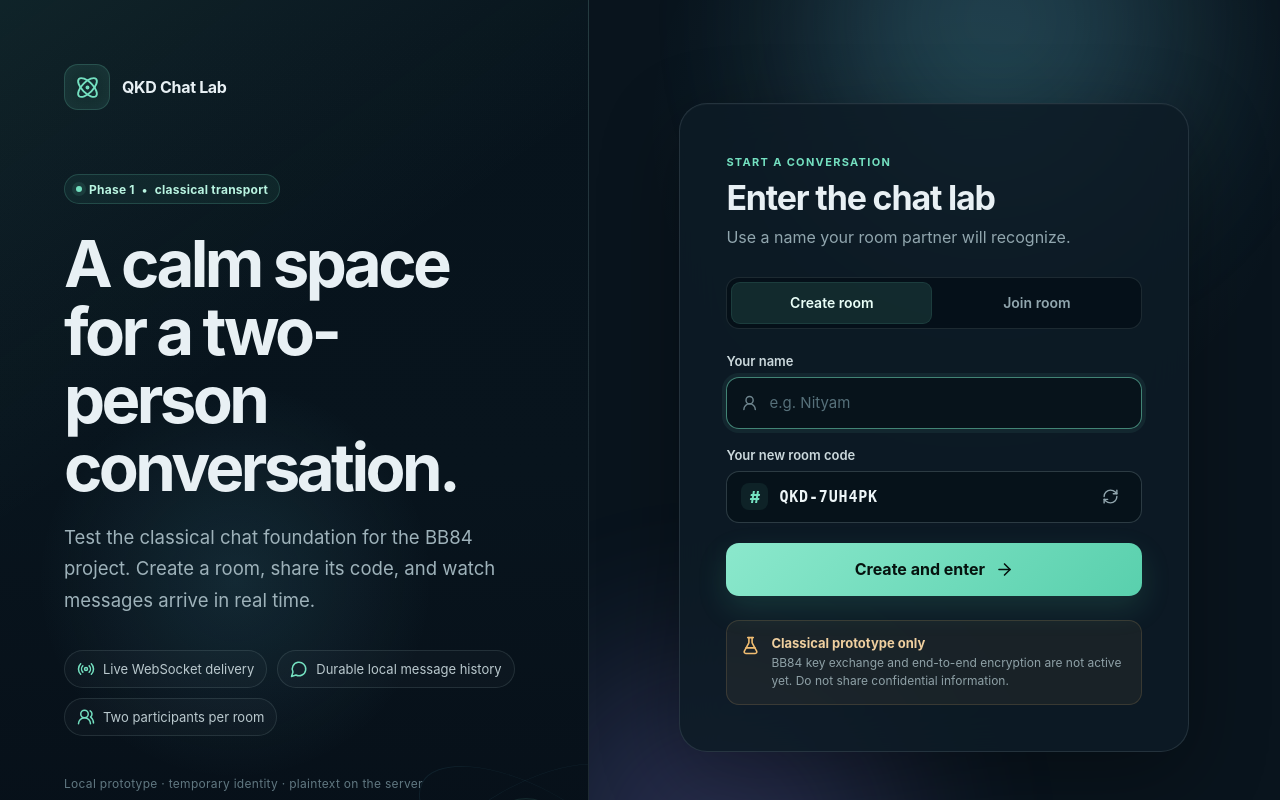
Test: Phase-1 chat experience › loads history, connects, sends the exact envelope, and receives messages
The image size is (1280, 800).
Click the button "Join room" at (1037, 303), box [936,282,1137,324]
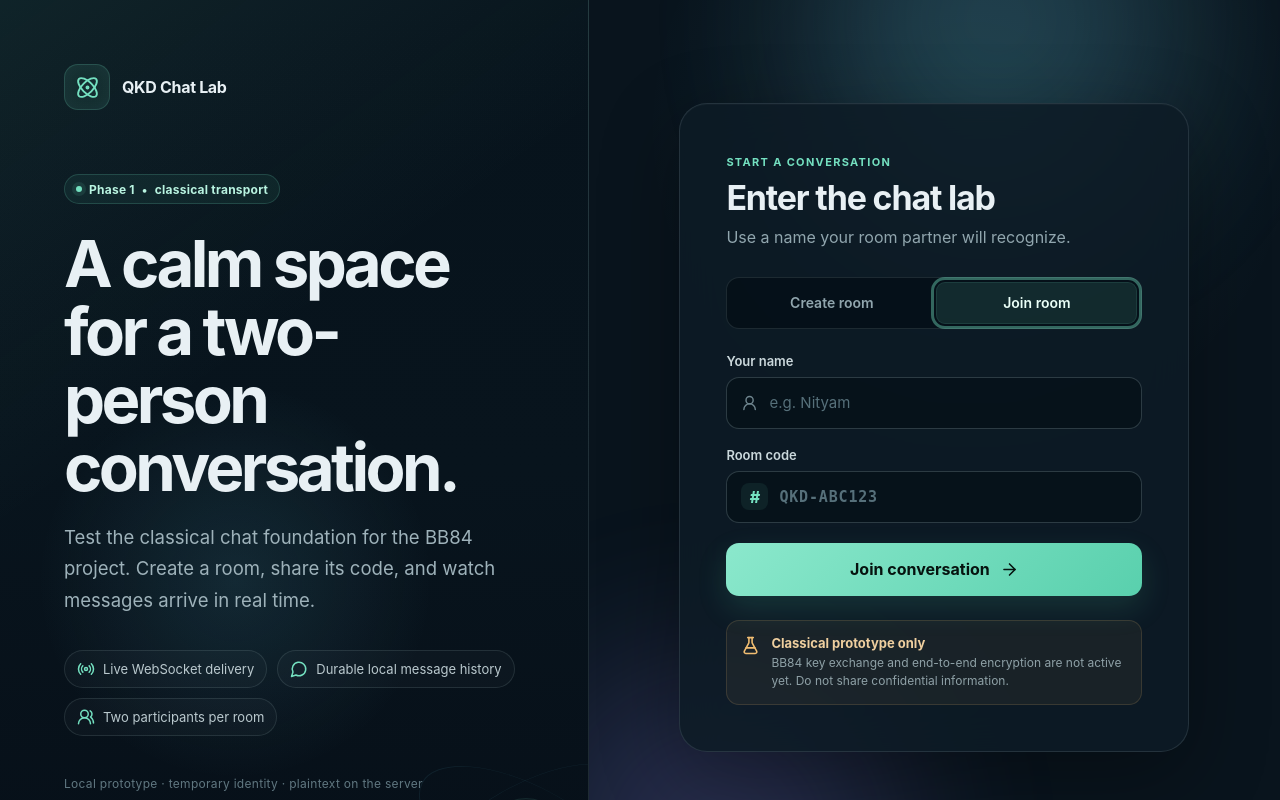
Type "Asha" into the field labelled "Your name" at (943, 403), box [758,378,1127,428]
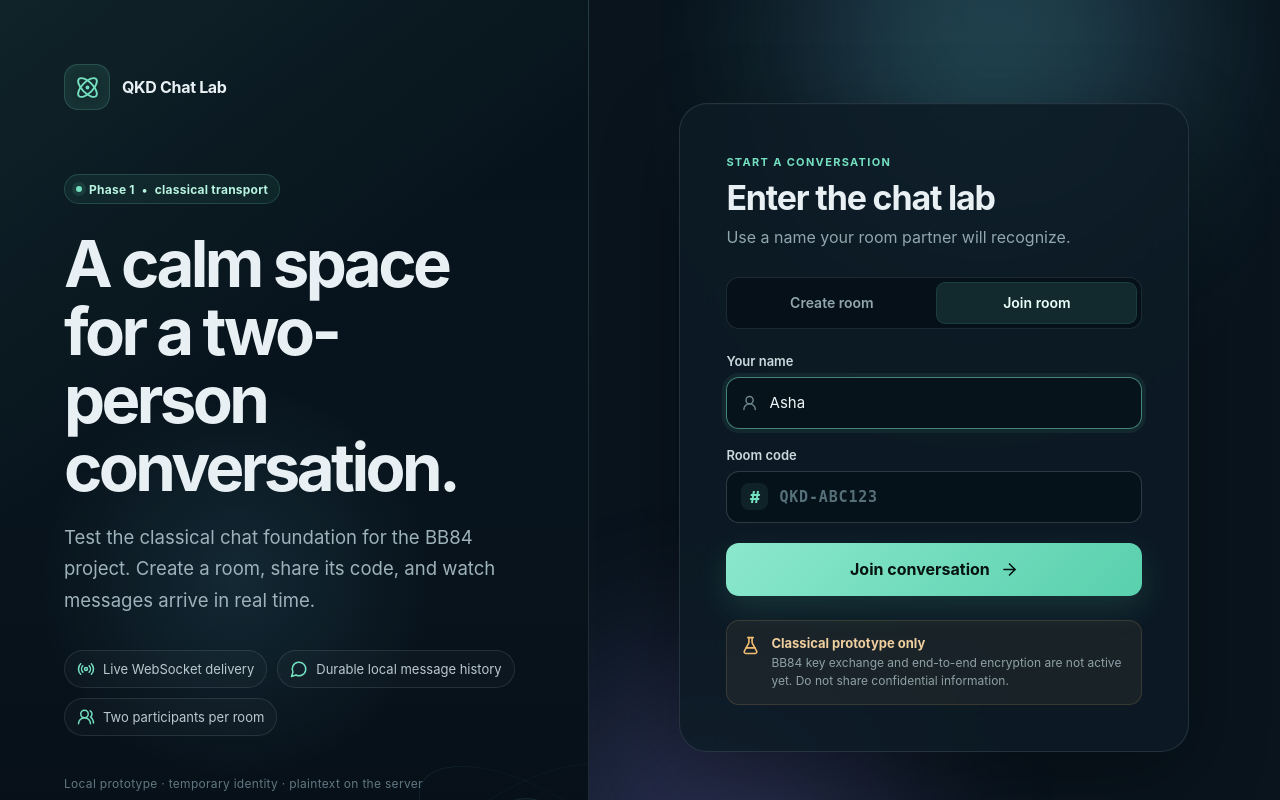
Type "room-42" into the field labelled "Room code" at (948, 497), box [768,472,1127,522]
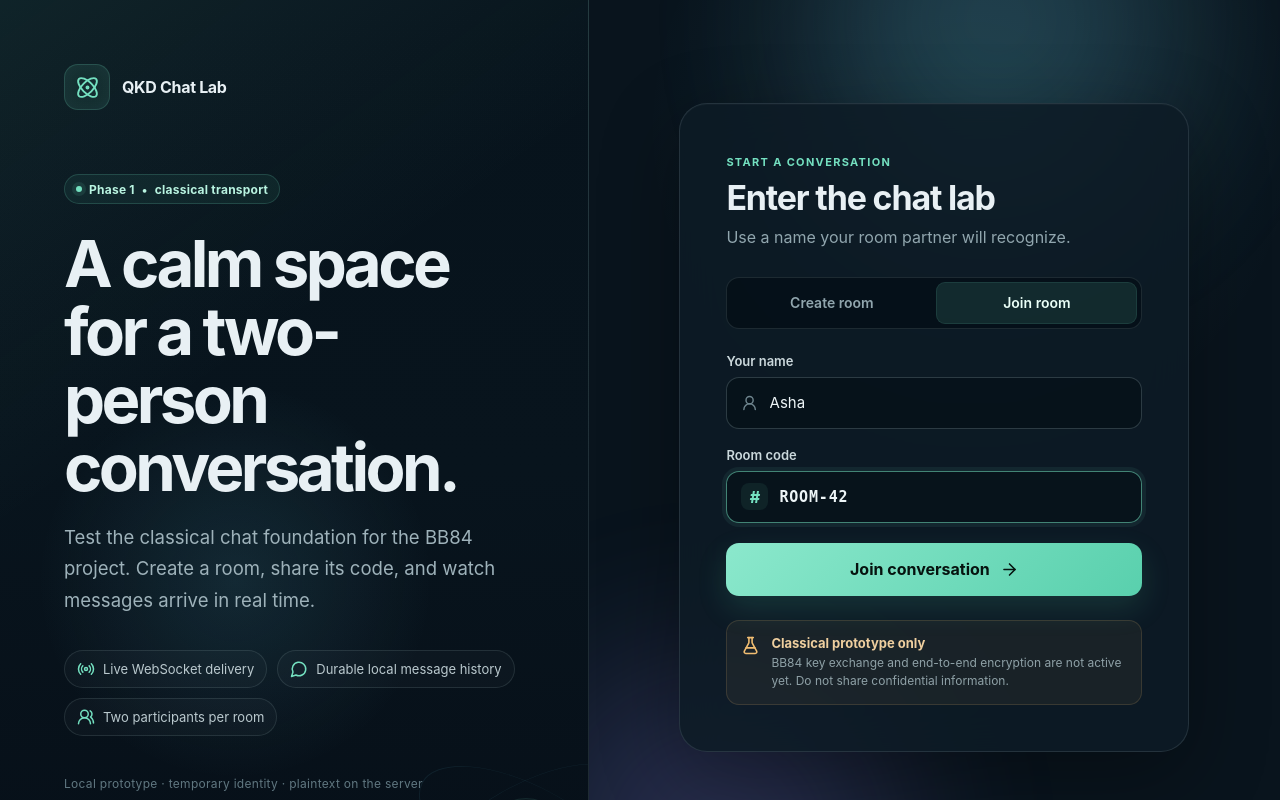
Click the button "Join conversation" at (934, 569), box [726,543,1142,596]
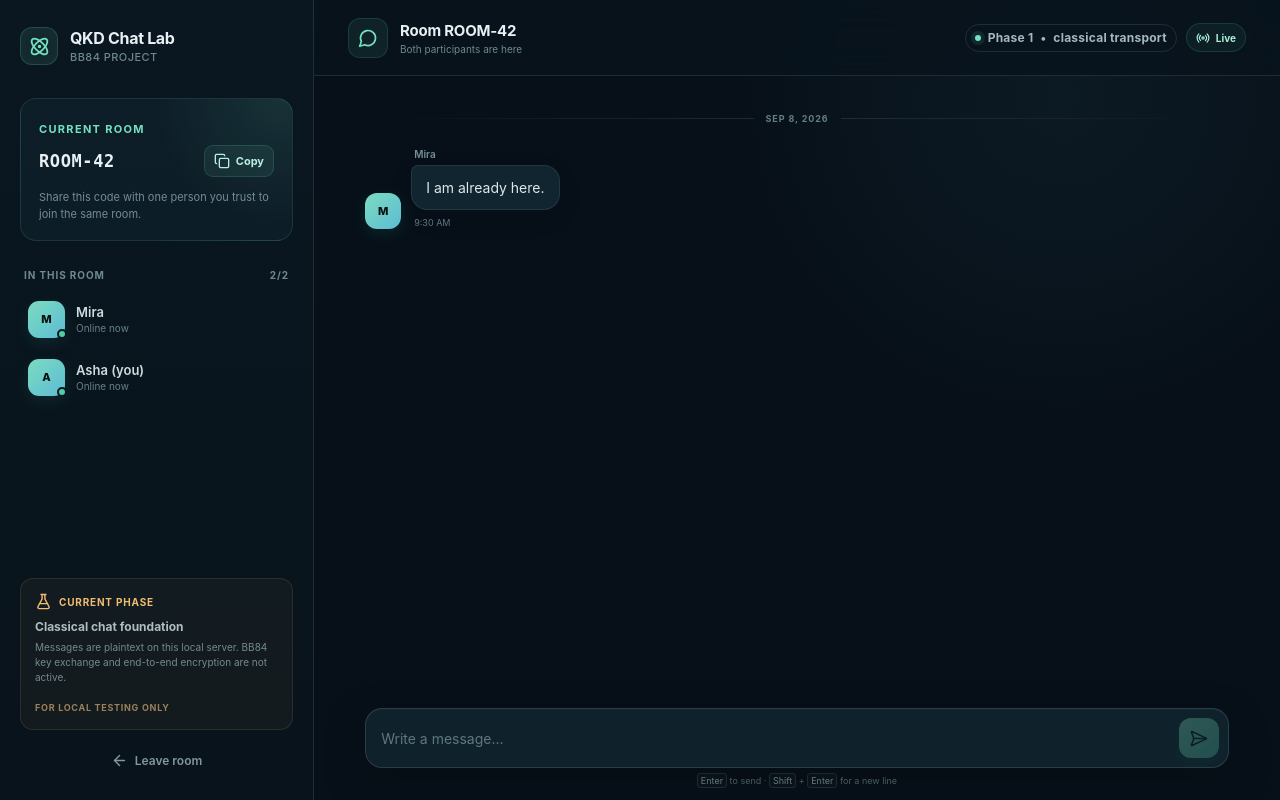
expect the text "I am already here." is shown: met, box [426,177,544,198]
Type "Hello Mira" into the text box labelled "message" at (775, 739), box [381,720,1169,758]
Then press Enter
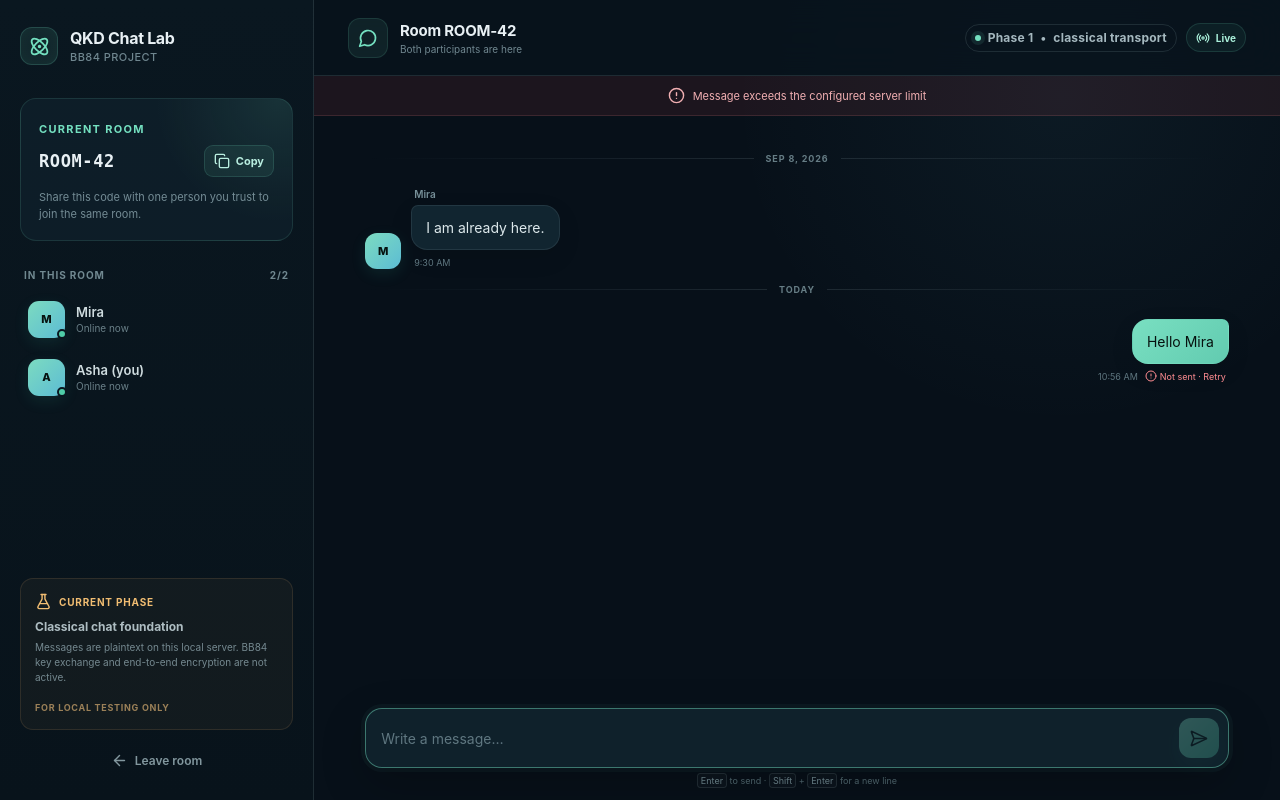
expect the text "Hello Mira" is shown: met, box [1147,331,1214,352]
expect the message shows "configured server limit": met, box [693,88,926,102]
expect the button "Not sent · Retry" is shown: met
Click the button "Not sent · Retry" at (1185, 376), box [1145,370,1226,382]
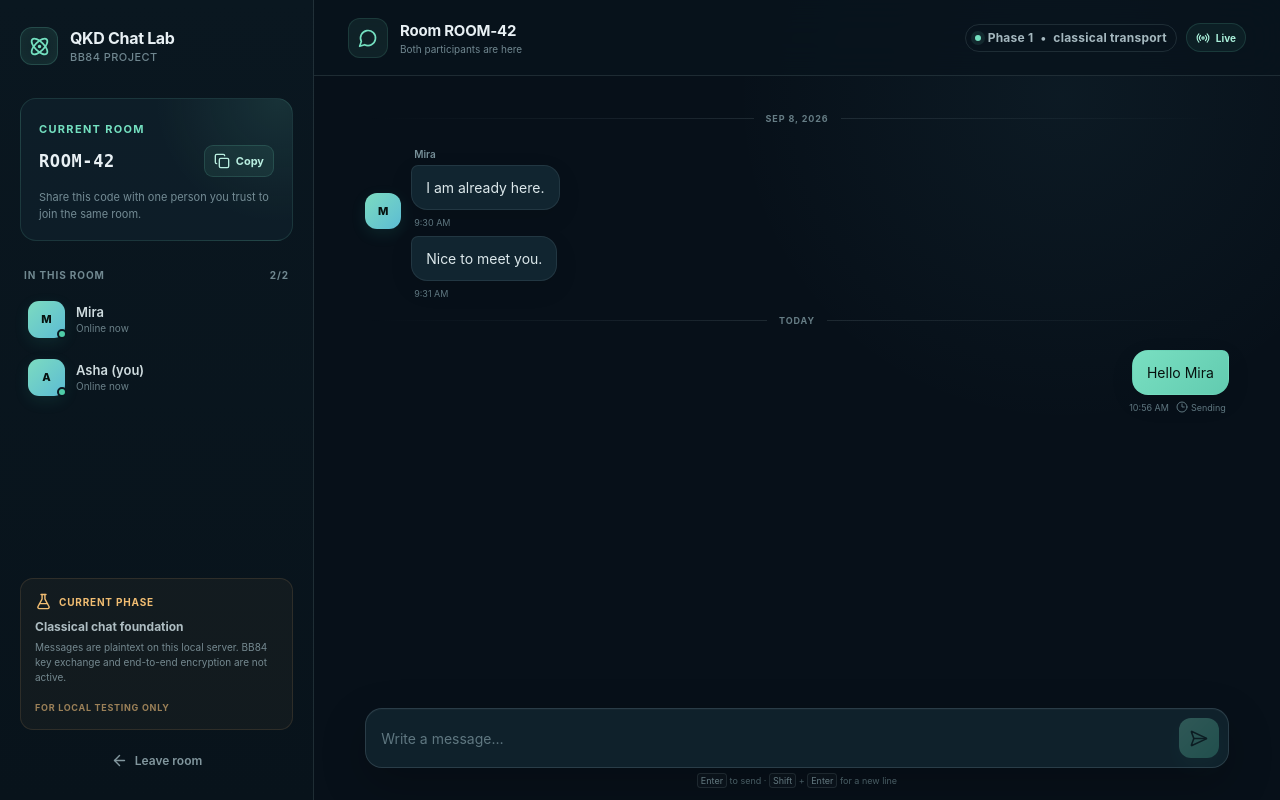
expect the text "Hello Mira" is shown: met, box [1147,362,1214,383]
expect the text "Message exceeds the configured server limit" is gone: met
expect the text "Nice to meet you." is shown: met, box [426,248,542,269]
